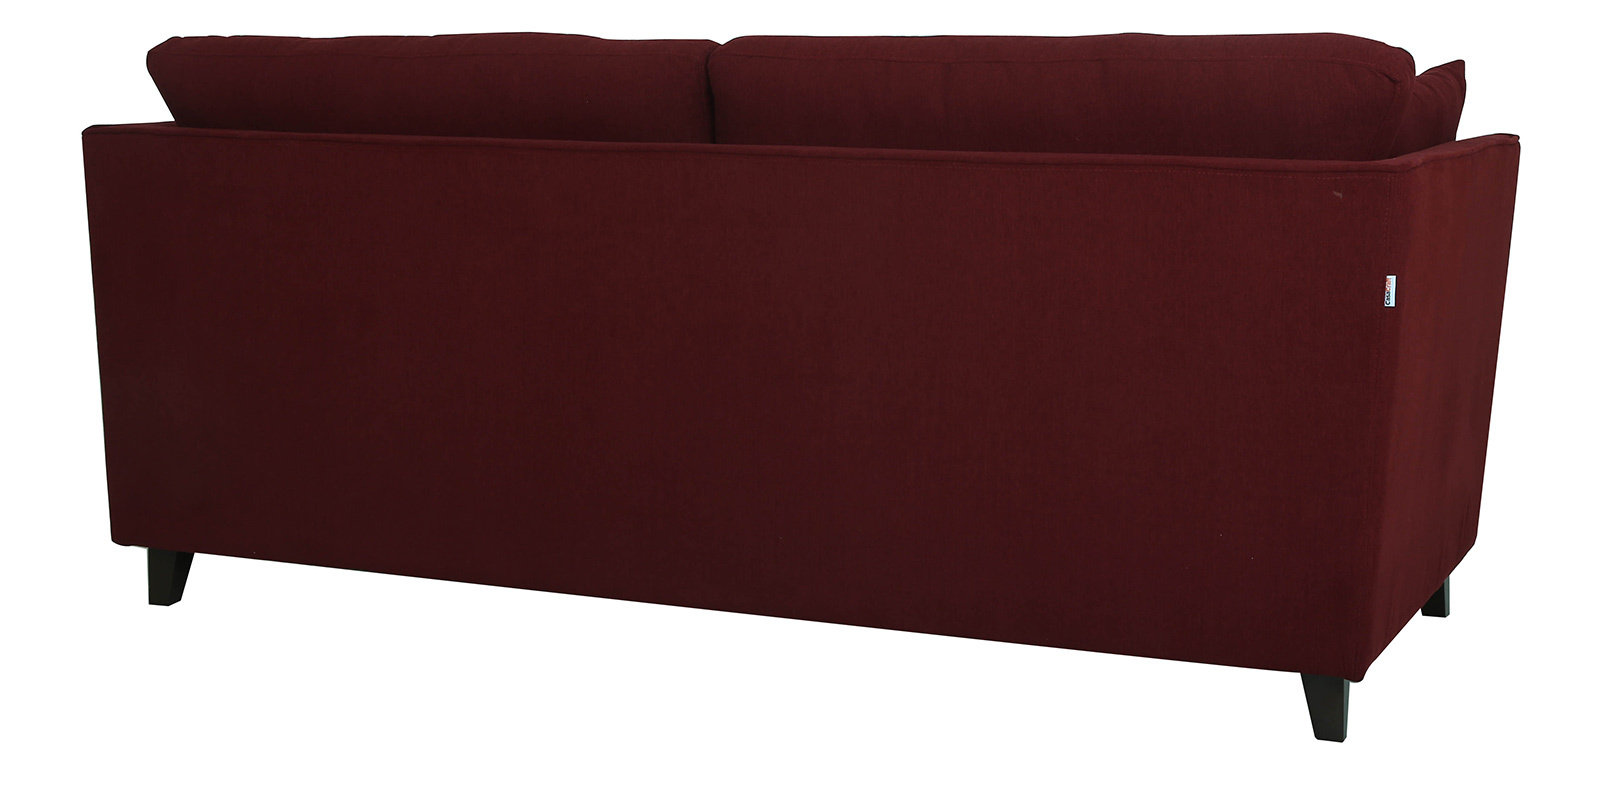Miranda Three Seater Sofa in Garnet Red Colour by CasaCraft: (80, 32, 1523, 744)
